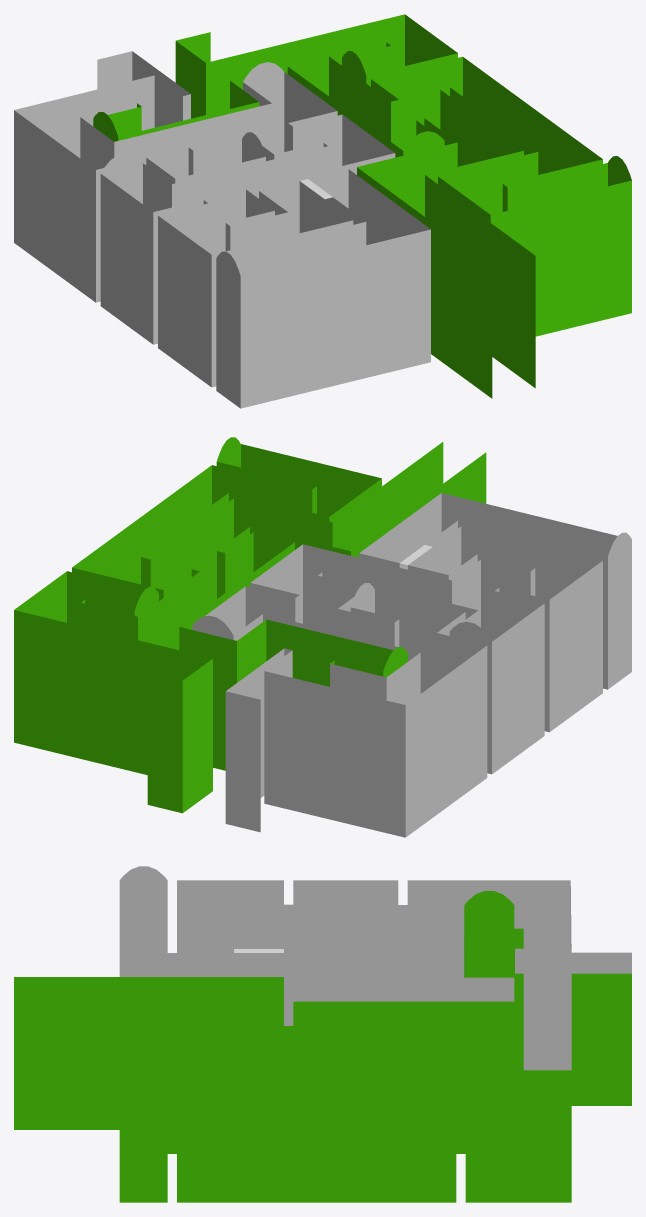
The model's file is LabFinal_04.fbx.
3 views of the same model, one above another, from view 1: azimuth 30°, elevation 25°; view 2: azimuth 150°, elevation 25°; view 3: azimuth 270°, elevation 25° (orthographic).
Visible parts, largest first — view 1: ParedesFase01; view 2: ParedesFase01; view 3: ParedesFase01.
Part boxes in pixels (box(x1,y1,x2,y2)): ParedesFase01: box(14, 14, 631, 408); ParedesFase01: box(14, 437, 631, 837); ParedesFase01: box(14, 866, 631, 1202).
Size of the model in its own units: 1194 by 428 by 1641.
